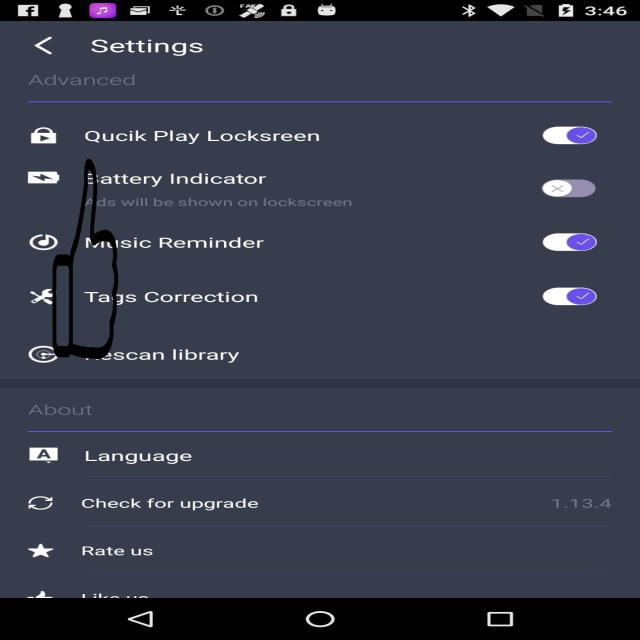privacy zuckering: (52, 159, 119, 359)
